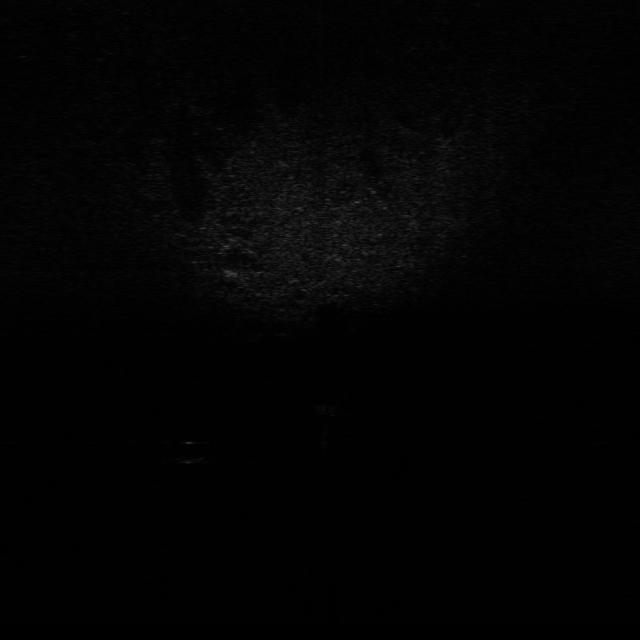ball: (172, 437, 208, 462)
cube: (314, 402, 344, 421)
